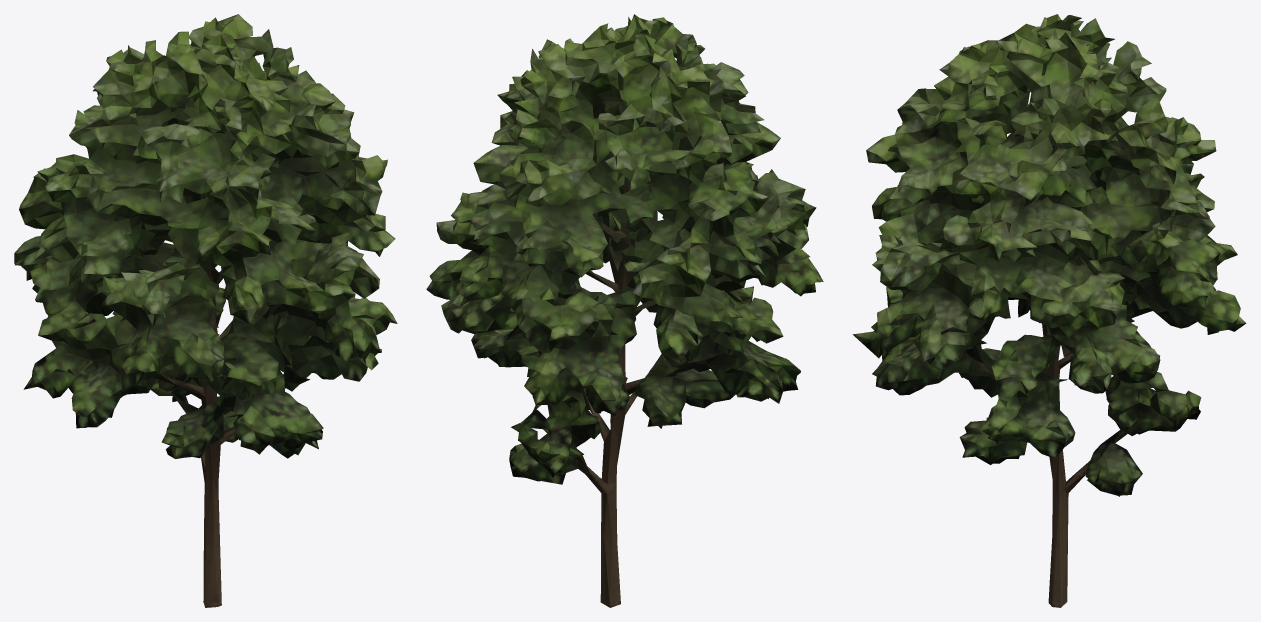
Rendered from street_tree1.glb.
The picture shows the model from 3 angles, left to right: view 1: azimuth 30°, elevation 25°; view 2: azimuth 150°, elevation 25°; view 3: azimuth 270°, elevation 25°; orthographic projection.
Visible parts, largest first — view 1: world; view 2: world; view 3: world.
Part boxes in pixels (left/top/right/bottom): world: left=14, top=14, right=397, bottom=607; world: left=426, top=14, right=823, bottom=607; world: left=852, top=14, right=1246, bottom=607.
Bounding box in the file's own units: 0.6134 × 1 × 0.6197.
1 material, 1 textured.
